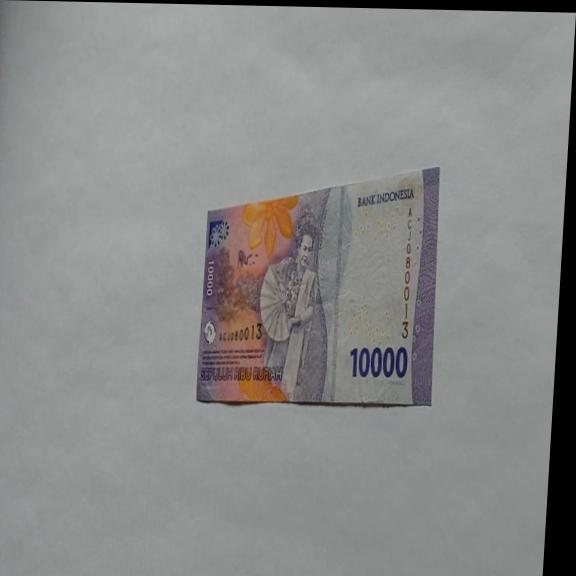Kertas: (194, 159, 445, 410), (347, 343, 409, 380)
